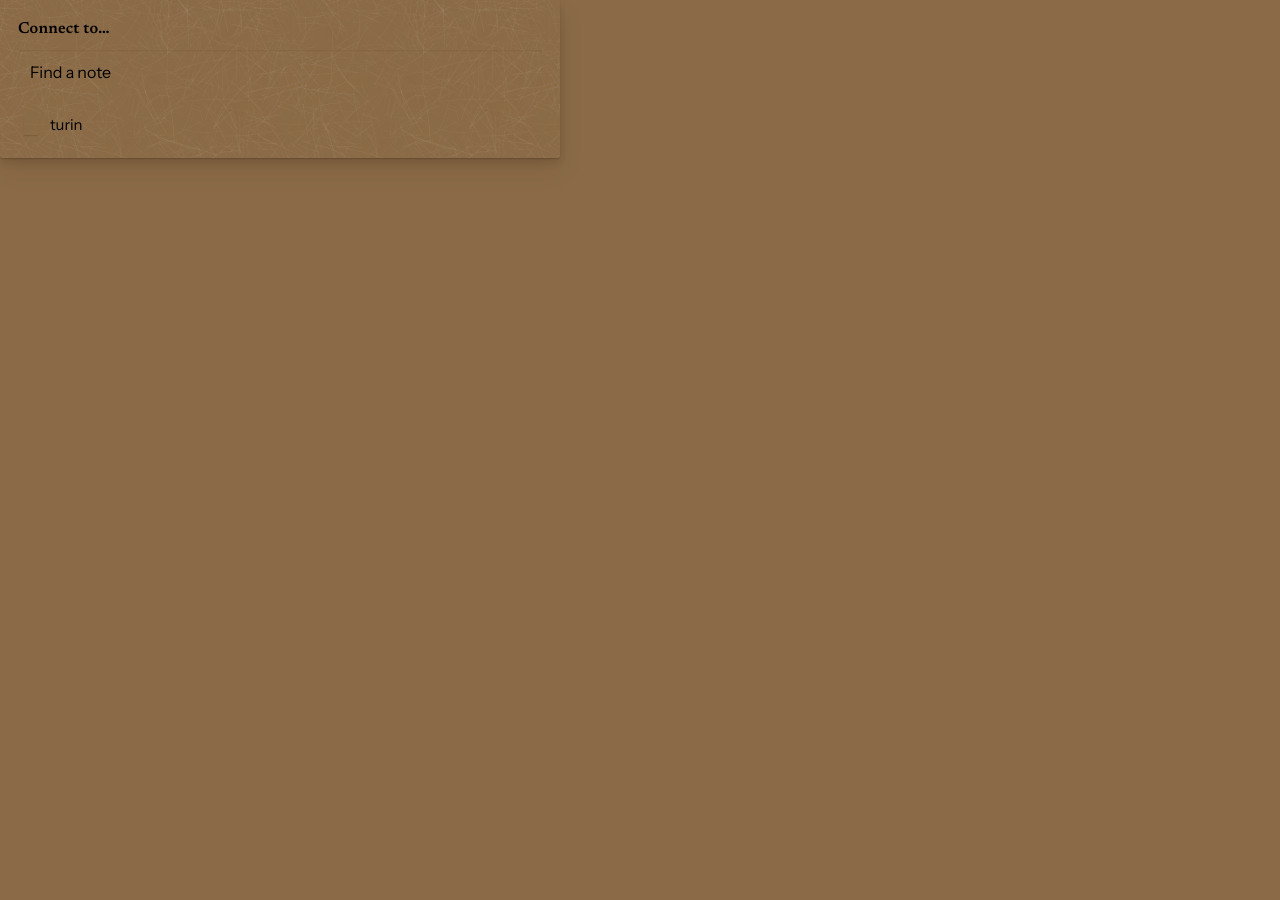
Scenario: Picker accessibility › has no active option when the list is empty
Type "zzz" into the dropdown at (280, 72), box [18,50,542,94]
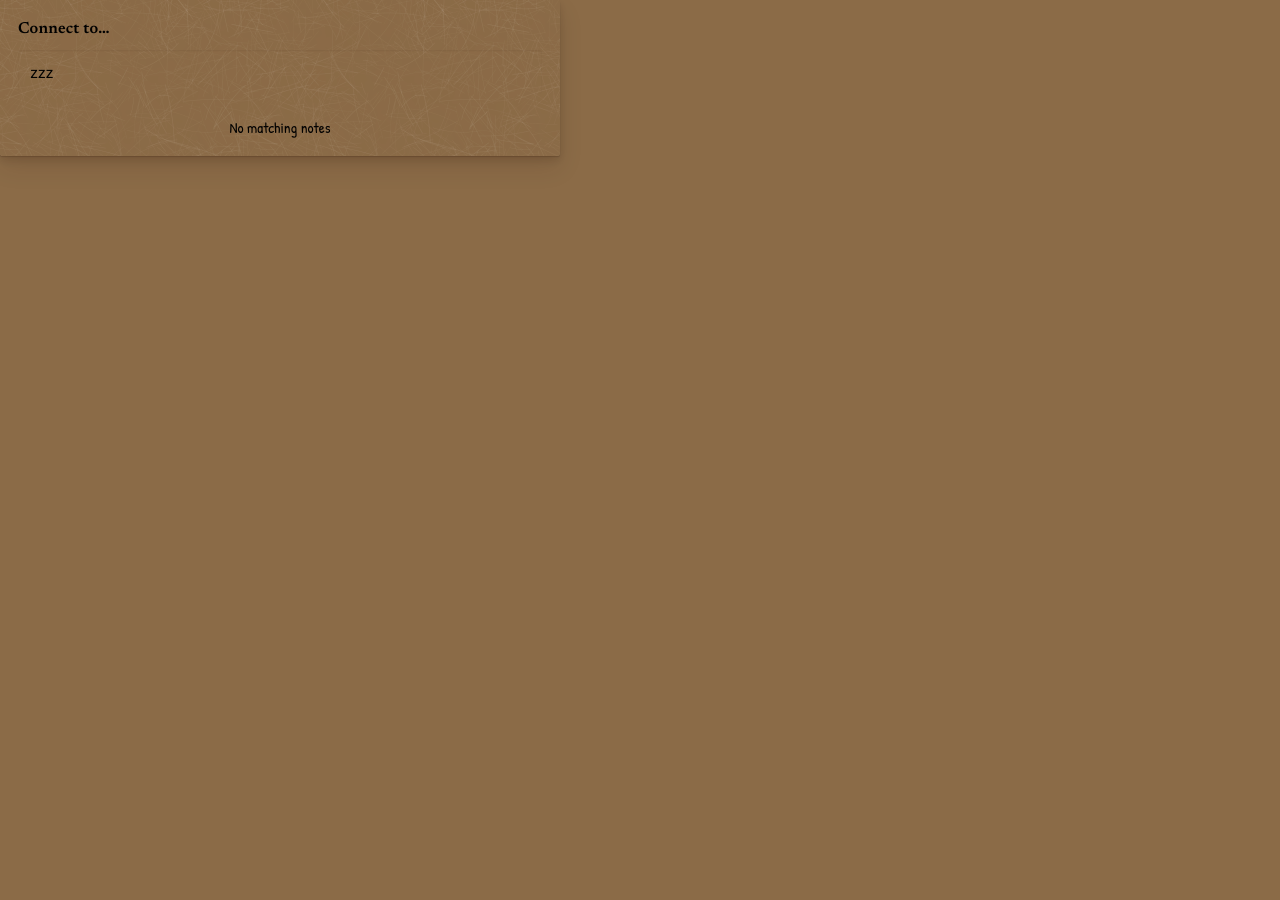
Result: the dropdown is collapsed at [18,50,542,94]
